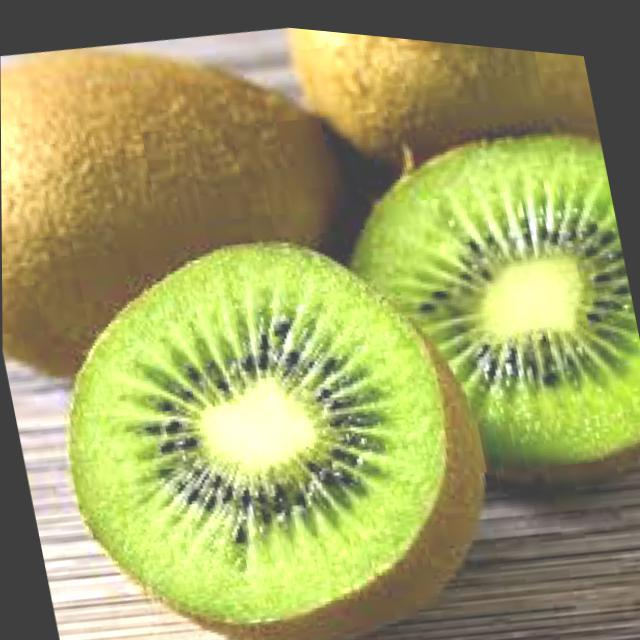kiwi: (1, 1, 428, 427)
